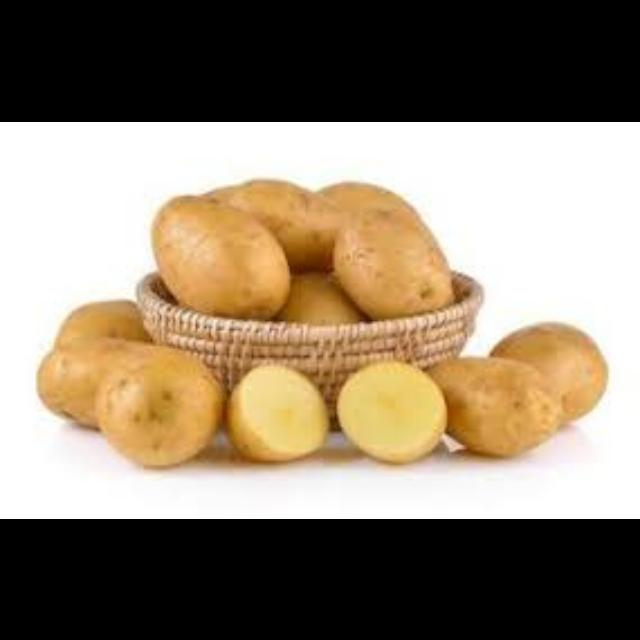Potato: (144, 190, 292, 320), (87, 342, 229, 468), (486, 314, 612, 434), (332, 201, 456, 317)
